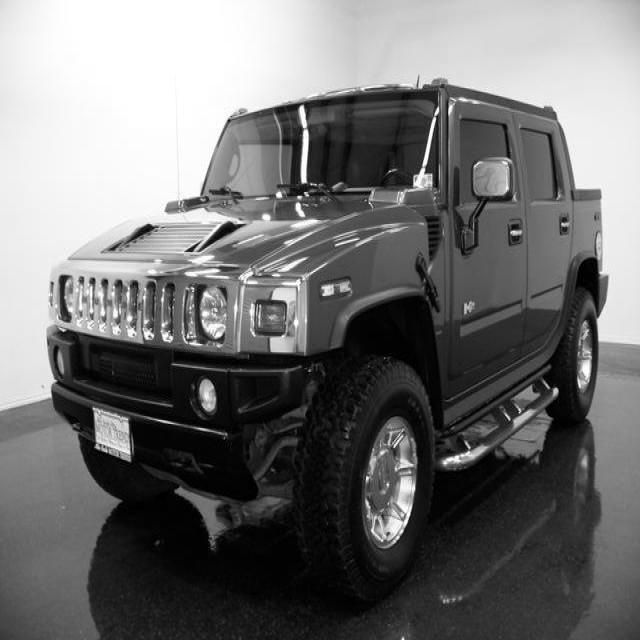car: (45, 74, 609, 606)
